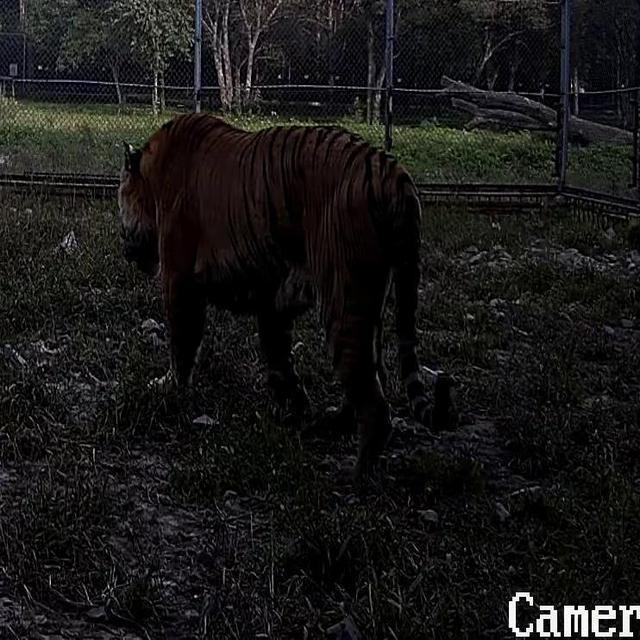tiger: (92, 94, 460, 482)
